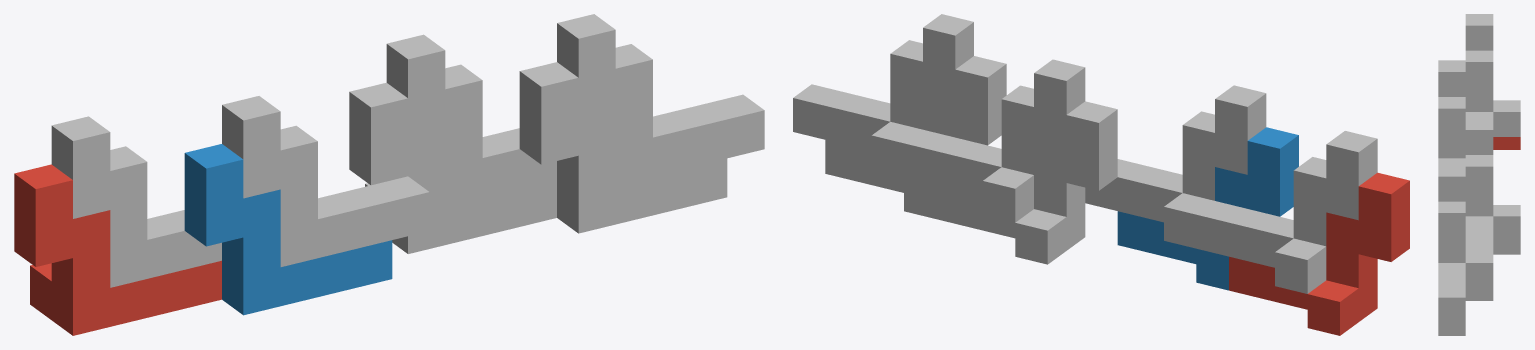
File: tiling.obj
3 views of the same model, side by side, from view 1: azimuth 30°, elevation 25°; view 2: azimuth 150°, elevation 25°; view 3: azimuth 270°, elevation 25° (orthographic). The views are drawn at different scales.
Parts seen in each view (by area): view 1: copy_1_domain_1, copy_1_domain_8, copy_1_domain_4, copy_1_domain_2, copy_1_domain_6, copy_1_domain_5, copy_1_domain_7, copy_1_domain_3; view 2: copy_1_domain_3, copy_1_domain_7, copy_1_domain_8, copy_1_domain_5, copy_1_domain_1, copy_1_domain_4, copy_1_domain_2, copy_1_domain_6; view 3: copy_1_domain_8, copy_1_domain_7, copy_1_domain_3, copy_1_domain_4, copy_1_domain_6, copy_1_domain_5, copy_1_domain_1.
Boxes of the visible parts, x1,y1,x2,y2 form: copy_1_domain_1: (14,164,221,335); copy_1_domain_8: (557,14,764,185); copy_1_domain_4: (222,96,429,266); copy_1_domain_2: (184,144,392,315); copy_1_domain_6: (519,62,727,233); copy_1_domain_5: (349,82,556,253); copy_1_domain_7: (386,34,556,205); copy_1_domain_3: (51,116,221,287); copy_1_domain_3: (1196,131,1377,293); copy_1_domain_7: (904,59,1085,222); copy_1_domain_8: (793,14,973,177); copy_1_domain_5: (936,101,1117,264); copy_1_domain_1: (1229,172,1409,335); copy_1_domain_4: (1085,85,1266,248); copy_1_domain_2: (1117,127,1298,290); copy_1_domain_6: (825,56,1006,218); copy_1_domain_8: (1438,165,1493,322); copy_1_domain_7: (1465,118,1520,251); copy_1_domain_3: (1465,14,1520,136); copy_1_domain_4: (1438,60,1465,164); copy_1_domain_6: (1438,288,1493,335); copy_1_domain_5: (1493,241,1520,254); copy_1_domain_1: (1493,137,1520,149).
Size of the model in its own units: 19 by 5 by 3.
